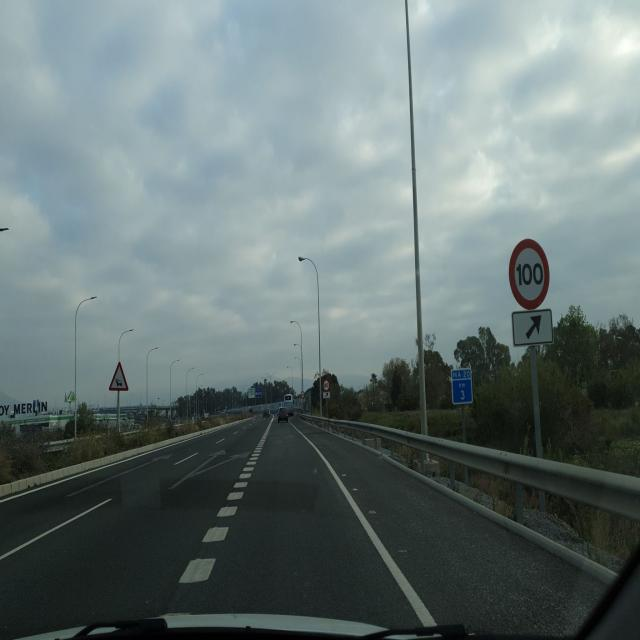car: (277, 405, 289, 424), (262, 408, 271, 419)
